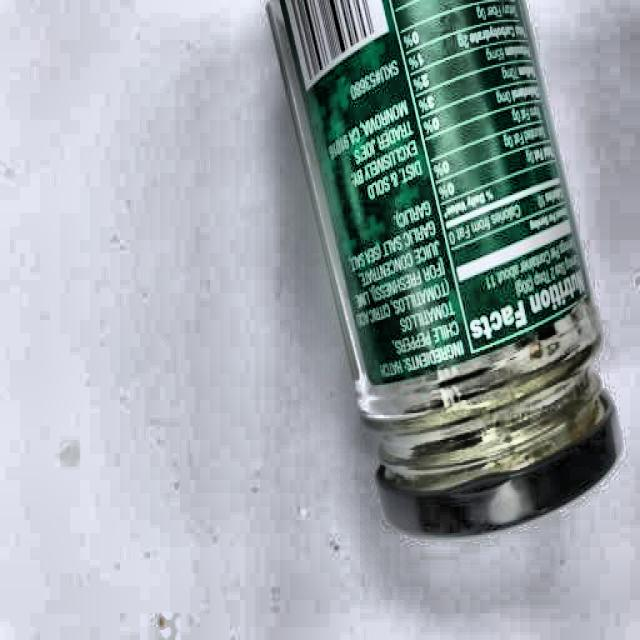glass: (259, 0, 616, 527)
